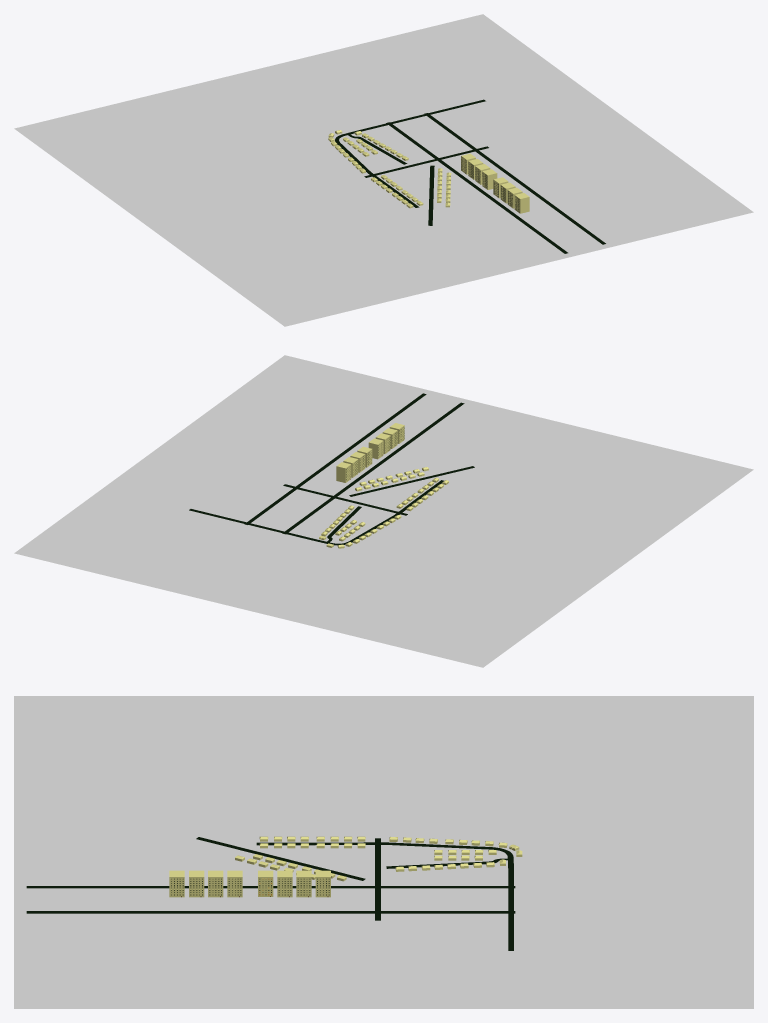
The model's file is plowena_a.glb.
The picture shows the model from 3 angles, top to bottom: view 1: azimuth 30°, elevation 25°; view 2: azimuth 150°, elevation 25°; view 3: azimuth 270°, elevation 25°; orthographic projection. The views are drawn at different scales.
Visible parts, largest first — view 1: Ground, Road.004, Road.003, Road.001; view 2: Ground, Road.004, Road.003, Road.001; view 3: Ground, Road.004, Road.003, Road.001, Road.005.
Part boxes in pixels (bbox=[...]): Ground: bbox=[14, 14, 753, 326]; Road.004: bbox=[335, 99, 485, 207]; Road.003: bbox=[424, 113, 605, 244]; Road.001: bbox=[386, 122, 567, 253]; Ground: bbox=[14, 355, 753, 667]; Road.004: bbox=[189, 480, 443, 545]; Road.003: bbox=[244, 393, 426, 524]; Road.001: bbox=[282, 402, 464, 534]; Ground: bbox=[14, 696, 753, 1008]; Road.004: bbox=[256, 842, 513, 950]; Road.003: bbox=[26, 911, 515, 913]; Road.001: bbox=[26, 886, 515, 888]; Road.005: bbox=[196, 837, 365, 880].
Size of what is drawn, in the model's own units: 1000 by 30.06 by 1000.
